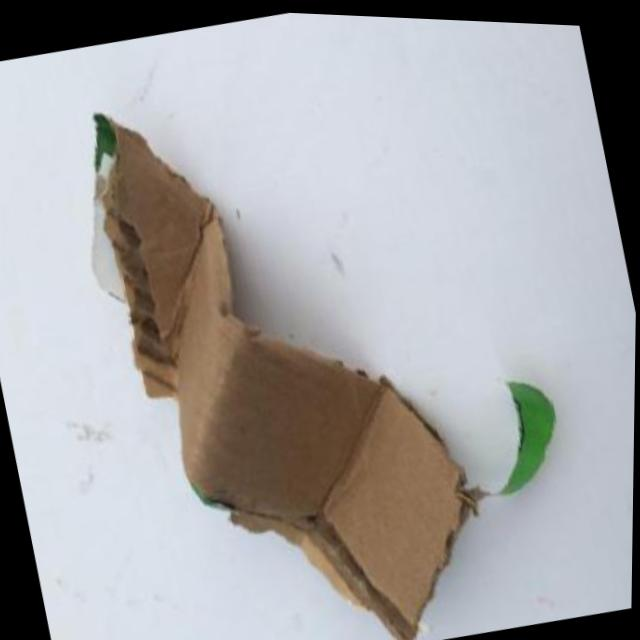box: (29, 1, 629, 640)
